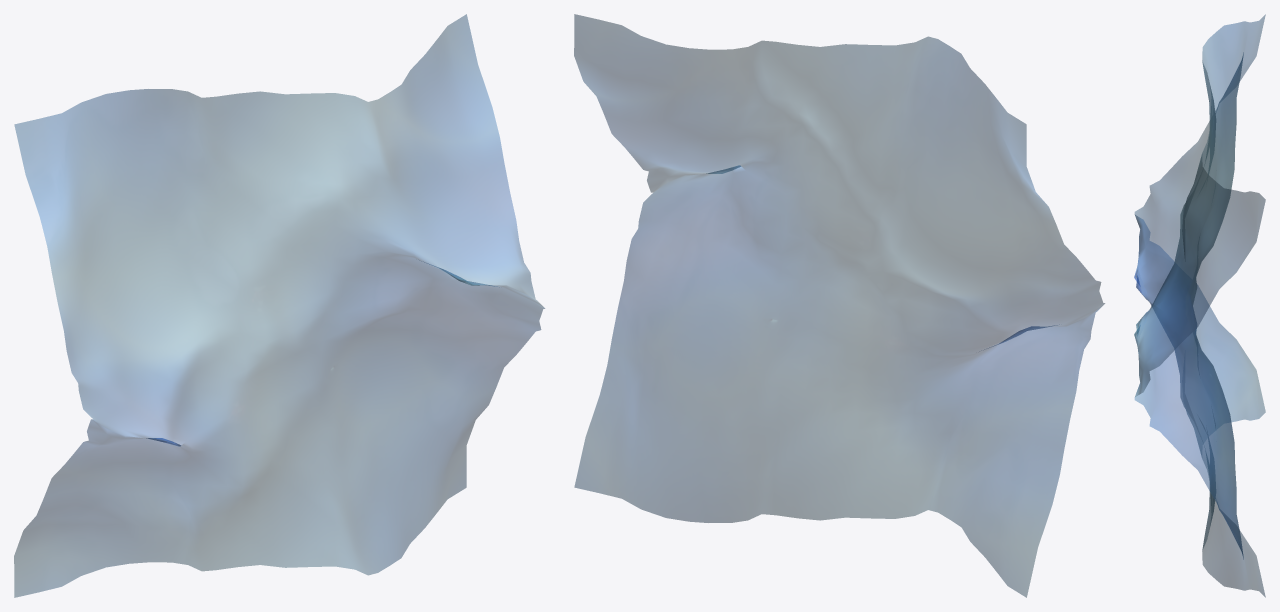
File: fond_.glb
3 renders of one model, left to right at view 1: azimuth 30°, elevation 25°; view 2: azimuth 150°, elevation 25°; view 3: azimuth 270°, elevation 25°, orthographic. The views are drawn at different scales.
Parts seen in each view (by area): view 1: Plane.004; view 2: Plane.004; view 3: Plane.004.
Part boxes in pixels (x1,y1,x2,y2): Plane.004: (14,14,544,597); Plane.004: (574,14,1104,597); Plane.004: (1134,14,1265,597).
Bounding box in the file's own units: 23.44 × 25.58 × 6.78.
Materials: 1 (1 with a texture image).
